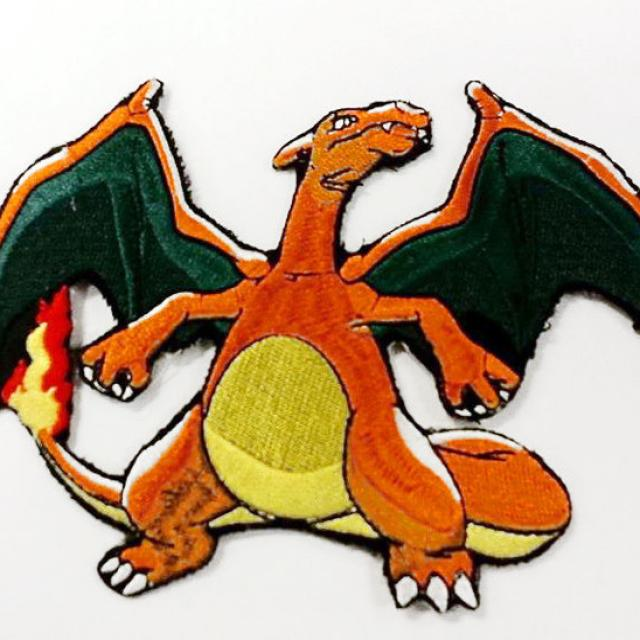Charizard: (102, 85, 502, 606)
